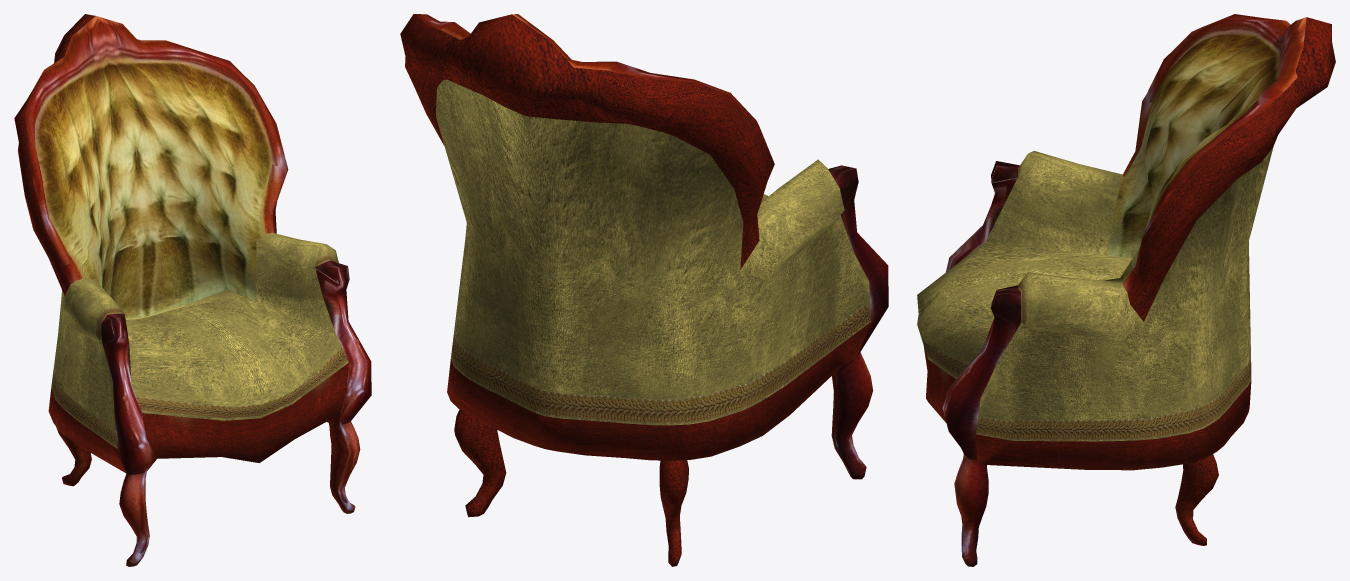
File: Chair_Smoking_LOD.fbx
The picture shows the model from 3 angles, left to right: view 1: azimuth 30°, elevation 25°; view 2: azimuth 150°, elevation 25°; view 3: azimuth 270°, elevation 25°; orthographic projection. The views are drawn at different scales.
Parts seen in each view (by area): view 1: Chair_Smoking_LOD0; view 2: Chair_Smoking_LOD0; view 3: Chair_Smoking_LOD0.
Boxes of the visible parts, left/top/right/bottom form: Chair_Smoking_LOD0: left=14, top=14, right=371, bottom=566; Chair_Smoking_LOD0: left=400, top=14, right=888, bottom=566; Chair_Smoking_LOD0: left=917, top=14, right=1335, bottom=566.
Size of what is drawn, in the model's own units: 90.19 by 140 by 110.
